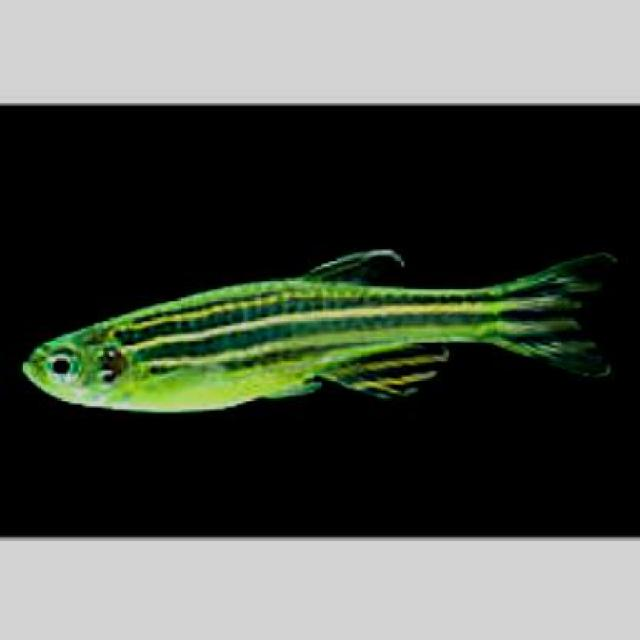ZebraFish: (21, 252, 618, 412)
